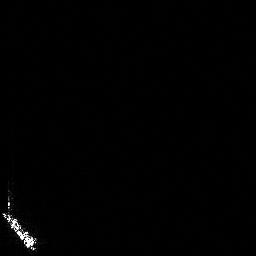ship: (1, 209, 41, 252)
